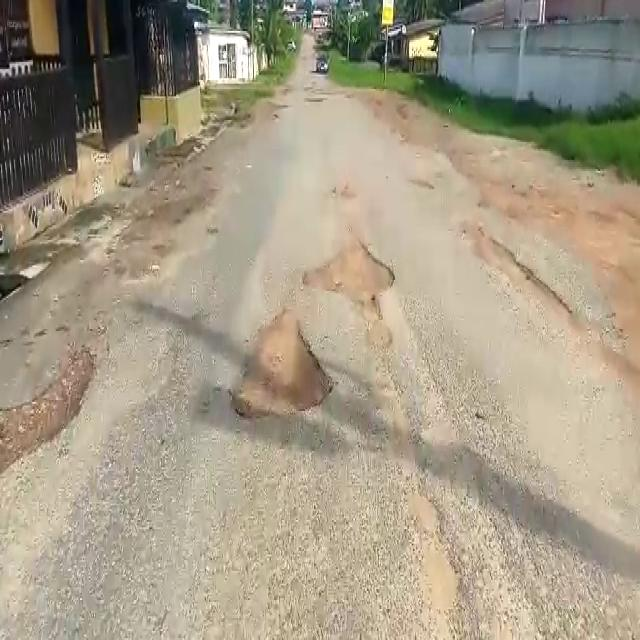Pothole: (0, 331, 103, 478), (222, 315, 336, 428), (296, 245, 398, 311)
